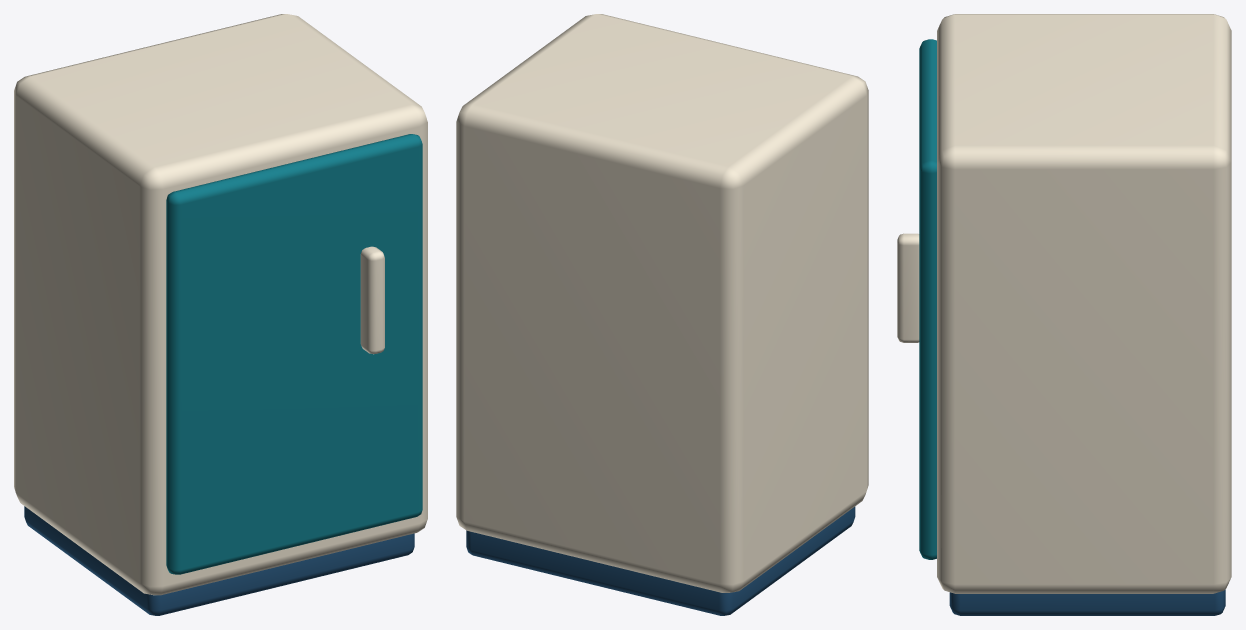
Rendered from Clinical_Handwash_Cabinet_Base.glb.
3 views of the same model, side by side, from view 1: azimuth 30°, elevation 25°; view 2: azimuth 150°, elevation 25°; view 3: azimuth 270°, elevation 25° (orthographic). The views are drawn at different scales.
Visible parts, largest first — view 1: Clinical_Handwash_Cabinet_Base__Visual; view 2: Clinical_Handwash_Cabinet_Base__Visual; view 3: Clinical_Handwash_Cabinet_Base__Visual.
Part boxes in pixels (x1=…): Clinical_Handwash_Cabinet_Base__Visual: x1=14, y1=14, x2=427, y2=615; Clinical_Handwash_Cabinet_Base__Visual: x1=456, y1=14, x2=868, y2=615; Clinical_Handwash_Cabinet_Base__Visual: x1=897, y1=14, x2=1231, y2=615.
Bounding box in the file's own units: 0.514 × 0.774 × 0.497.
1 material, 1 textured.
